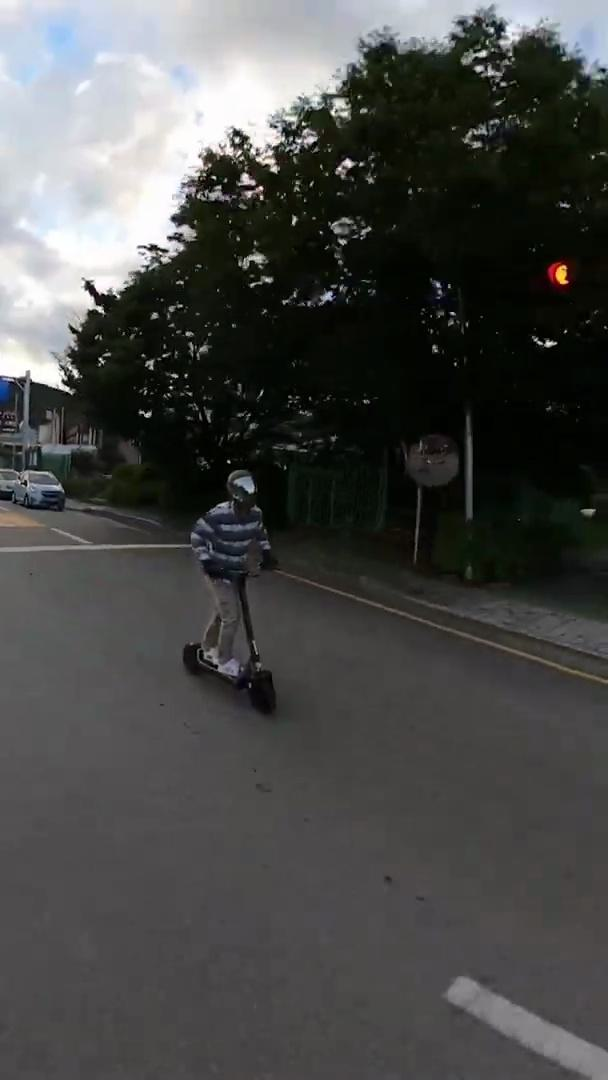helmet: (181, 467, 284, 718)
